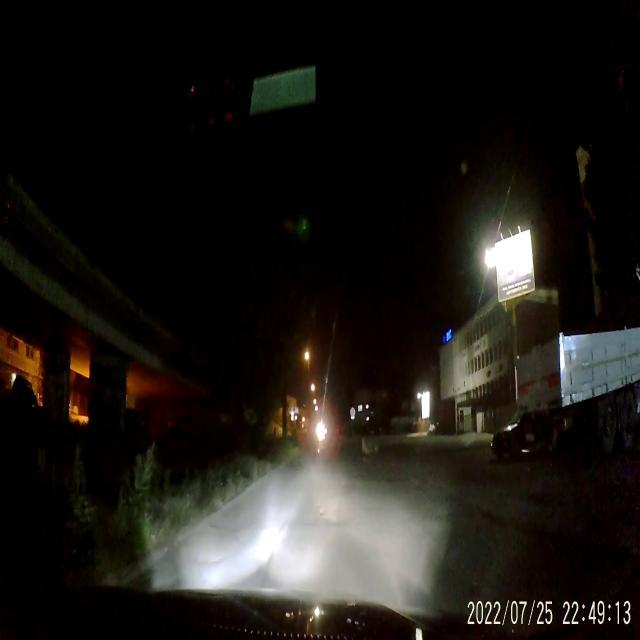Pothole: (316, 503, 345, 528), (192, 550, 224, 568), (208, 521, 242, 537)
